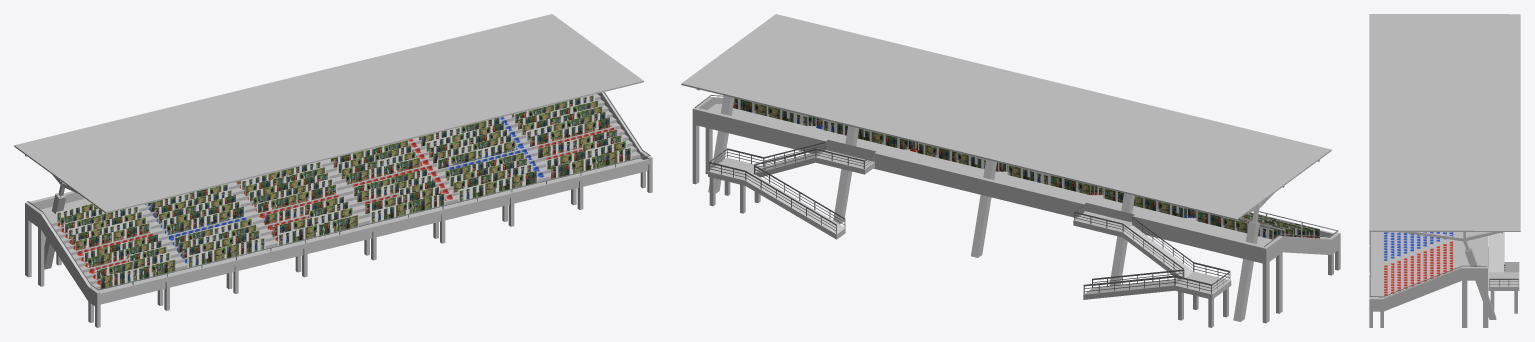
Rendered from Stand-07.fbx.
3 views of the same model, side by side, from view 1: azimuth 30°, elevation 25°; view 2: azimuth 150°, elevation 25°; view 3: azimuth 270°, elevation 25° (orthographic). The views are drawn at different scales.
Visible parts, largest first — view 1: Stand-07, Audience; view 2: Stand-07, Audience; view 3: Stand-07.
Boxes of the visible parts, x1,y1,x2,y2 form: Stand-07: [14, 14, 652, 327]; Audience: [56, 94, 631, 289]; Stand-07: [681, 14, 1340, 327]; Audience: [733, 98, 1319, 239]; Stand-07: [1369, 14, 1520, 327].
Size of the model in its own units: 8064 by 1605 by 2308.
